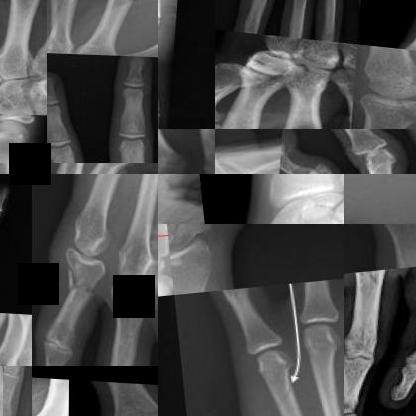fracture: (65, 266, 99, 307), (382, 88, 415, 130), (344, 270, 392, 298), (297, 148, 341, 173), (257, 383, 290, 415), (47, 0, 89, 25), (158, 4, 174, 32), (215, 159, 243, 173), (281, 136, 289, 160)
